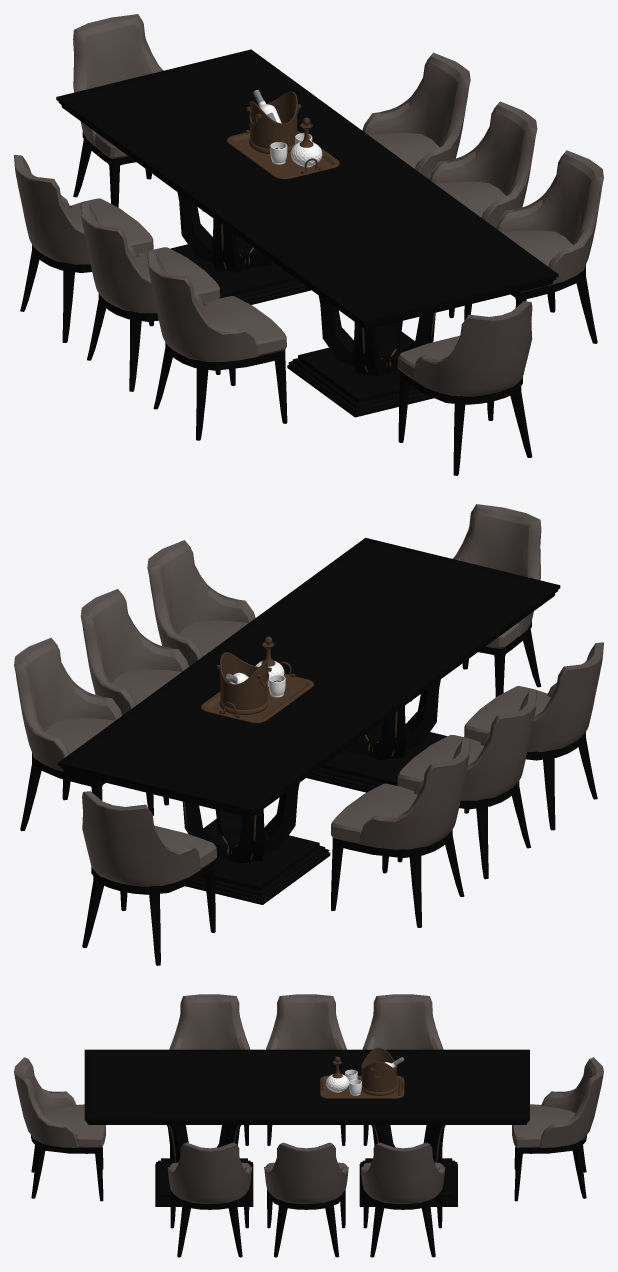
Rendered from GALIMBERTI NINO.FBX.
The picture shows the model from 3 angles, top to bottom: view 1: azimuth 30°, elevation 25°; view 2: azimuth 150°, elevation 25°; view 3: azimuth 270°, elevation 25°; orthographic projection. The views are drawn at different scales.
Visible parts, largest first — view 1: Rectangle001, Object007, Box046, Box040, Box041, Box052, Object001, Rectangle002, Object002, Object003, Rectangle003, Box048 (+25 smaller); view 2: Rectangle001, Object008, Box040, Box041, Box046, Object003, Rectangle003, Box049, Object002, Object001, Rectangle002, Box051 (+25 smaller); view 3: Rectangle001, Object006, Object004, Object005, Box034, Box008, Box037, Object007, Object008, Box039, Box045, Box043 (+12 smaller).
Boxes of the visible parts, bbox=[...] form: Rectangle001: bbox=[56, 49, 558, 329]; Object007: bbox=[414, 302, 532, 396]; Box046: bbox=[496, 150, 602, 269]; Box040: bbox=[363, 53, 469, 171]; Box041: bbox=[429, 101, 536, 220]; Box052: bbox=[74, 14, 162, 139]; Object001: bbox=[147, 252, 258, 362]; Rectangle002: bbox=[287, 332, 433, 417]; Object002: bbox=[80, 204, 157, 313]; Object003: bbox=[14, 155, 90, 264]; Rectangle003: bbox=[170, 244, 310, 304]; Box048: bbox=[398, 370, 532, 475]; Rectangle001: bbox=[58, 537, 560, 817]; Object008: bbox=[82, 792, 200, 886]; Box040: bbox=[14, 638, 121, 756]; Box041: bbox=[81, 589, 188, 707]; Box046: bbox=[148, 540, 254, 659]; Object003: bbox=[359, 740, 470, 849]; Rectangle003: bbox=[185, 819, 330, 904]; Box049: bbox=[453, 504, 540, 630]; Object002: bbox=[460, 691, 537, 800]; Object001: bbox=[527, 642, 603, 751]; Rectangle002: bbox=[306, 732, 447, 792]; Box051: bbox=[82, 860, 215, 965]; Rectangle001: bbox=[84, 1049, 529, 1124]; Object006: bbox=[167, 1144, 252, 1203]; Object004: bbox=[360, 1144, 445, 1203]; Object005: bbox=[264, 1144, 348, 1203]; Box034: bbox=[267, 994, 345, 1049]; Box008: bbox=[170, 994, 249, 1049]; Box037: bbox=[363, 994, 442, 1049]; Object007: bbox=[14, 1057, 78, 1147]; Object008: bbox=[539, 1057, 603, 1147]; Box039: bbox=[363, 1190, 442, 1257]; Box045: bbox=[170, 1190, 249, 1257]; Box043: bbox=[267, 1189, 345, 1257].
Bounding box in the file's own units: 2496 × 1020 × 3973.
